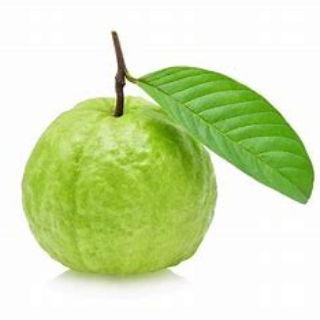oi: (25, 90, 219, 279)
